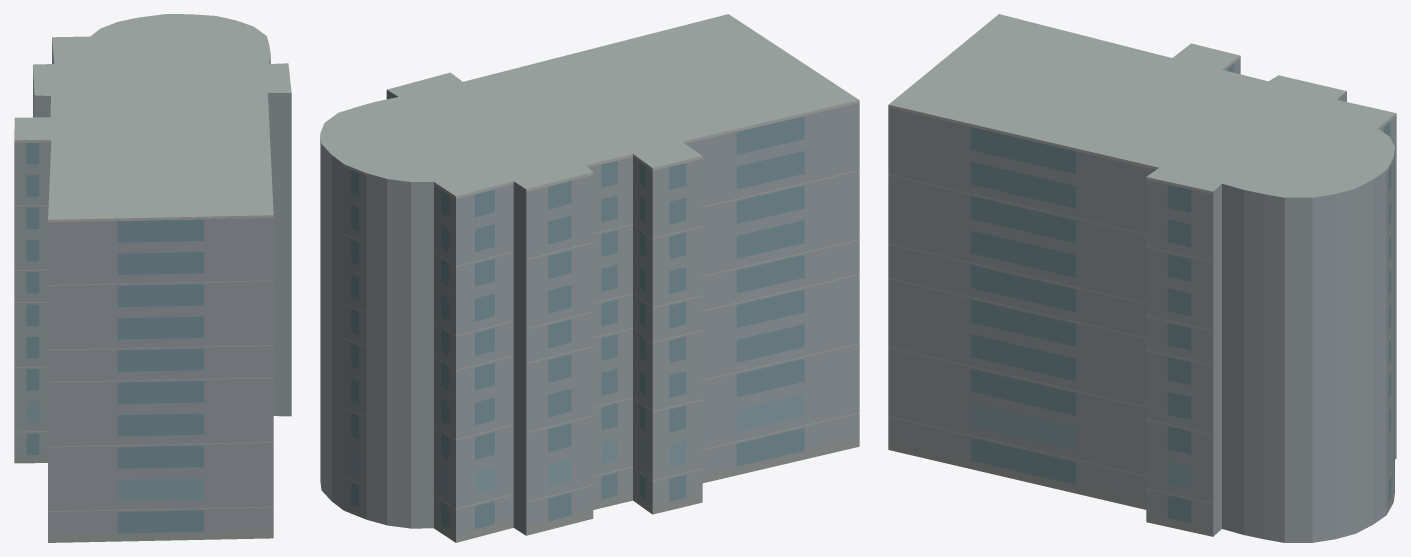
The model's file is survey-upis-32692557.glb.
The picture shows the model from 3 angles, left to right: view 1: azimuth 30°, elevation 25°; view 2: azimuth 150°, elevation 25°; view 3: azimuth 270°, elevation 25°; orthographic projection. The views are drawn at different scales.
Parts seen in each view (by area): view 1: survey-upis-32692557.tmp; view 2: survey-upis-32692557.tmp; view 3: survey-upis-32692557.tmp.
Part boxes in pixels (left/top/right/bottom): survey-upis-32692557.tmp: left=14, top=14, right=291, bottom=542; survey-upis-32692557.tmp: left=320, top=14, right=859, bottom=542; survey-upis-32692557.tmp: left=888, top=14, right=1396, bottom=542.
Bounding box in the file's own units: 34.83 × 30.5 × 40.72.
